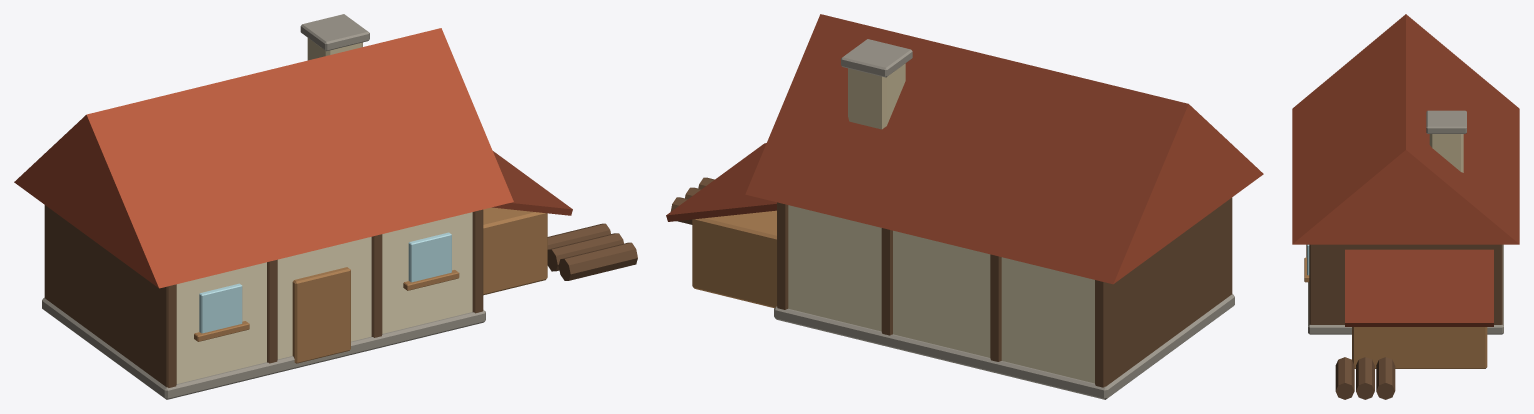
The model's file is Farmhouse.fbx.
3 views of the same model, side by side, from view 1: azimuth 30°, elevation 25°; view 2: azimuth 150°, elevation 25°; view 3: azimuth 270°, elevation 25° (orthographic). The views are drawn at different scales.
Visible parts, largest first — view 1: Farmhouse; view 2: Farmhouse; view 3: Farmhouse.
Boxes of the visible parts, bbox=[...] form: Farmhouse: bbox=[14, 14, 637, 399]; Farmhouse: bbox=[666, 14, 1263, 399]; Farmhouse: bbox=[1292, 14, 1519, 399].
Bounding box in the file's own units: 6.77 × 3.14 × 3.36.
